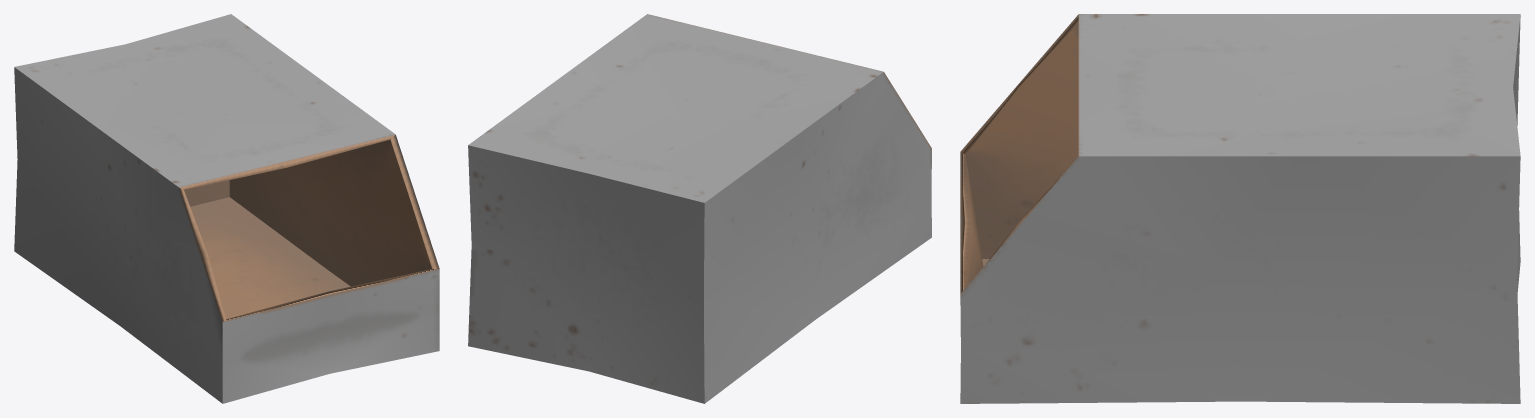
File: SM_CartonDrawer_01.fbx
The picture shows the model from 3 angles, left to right: view 1: azimuth 30°, elevation 25°; view 2: azimuth 150°, elevation 25°; view 3: azimuth 270°, elevation 25°; orthographic projection. The views are drawn at different scales.
Visible parts, largest first — view 1: SM_CartonDrawer_01; view 2: SM_CartonDrawer_01; view 3: SM_CartonDrawer_01.
Part boxes in pixels (left/top/right/bottom): SM_CartonDrawer_01: left=14, top=14, right=439, bottom=403; SM_CartonDrawer_01: left=468, top=14, right=931, bottom=403; SM_CartonDrawer_01: left=960, top=14, right=1520, bottom=403.
Bounding box in the file's own units: 25.29 × 20.54 × 42.1.
